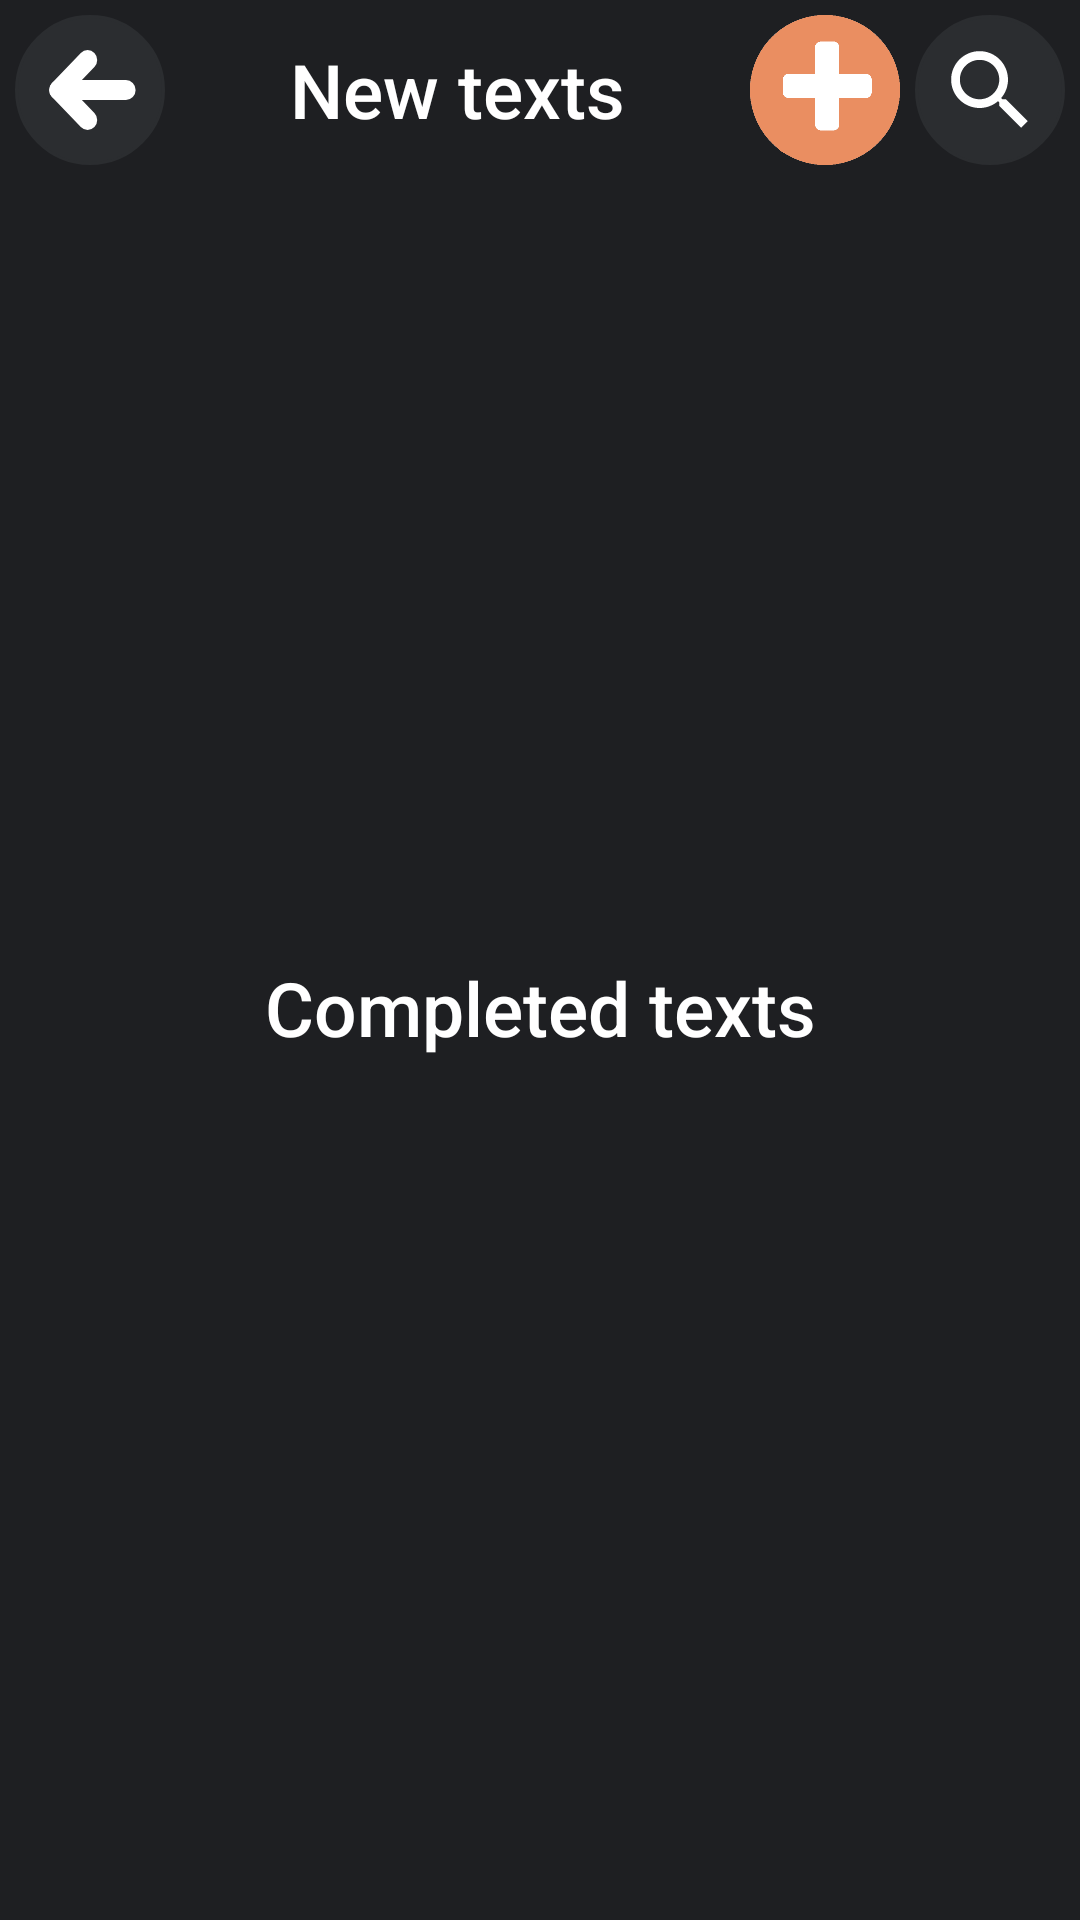

Icon bounding boxes for this 1080×1920 phone screenshot, format bbox=(x1, y1, x2, y2):
aad tema: bbox=(750, 15, 900, 165)
back: bbox=(15, 15, 165, 165)
search: bbox=(915, 15, 1065, 165)
